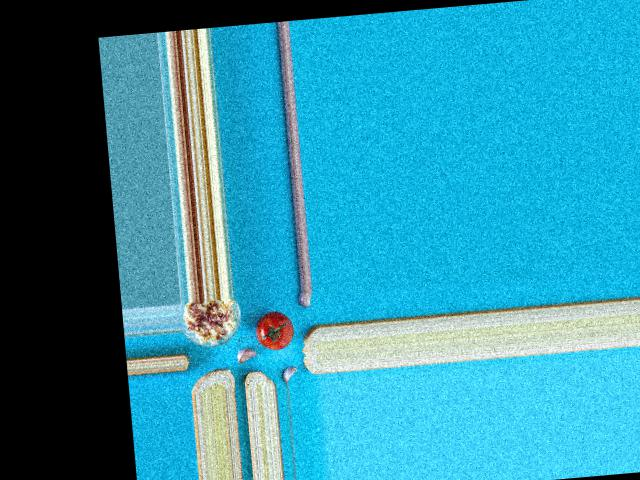tomato: (256, 309, 295, 351)
